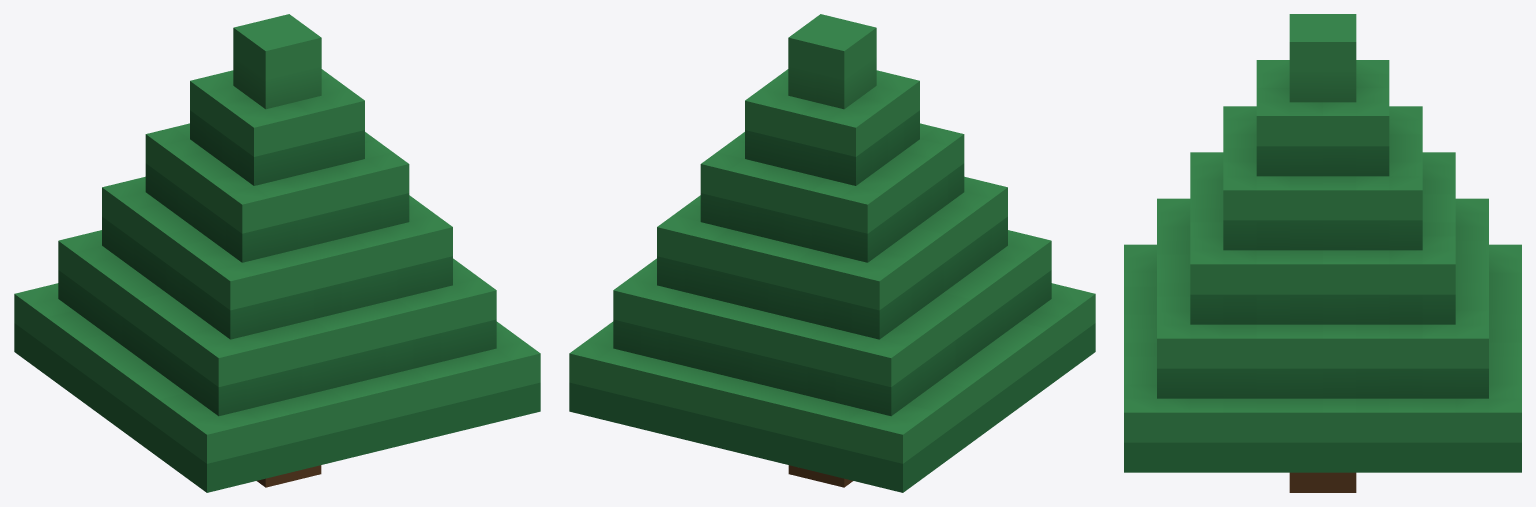
The model's file is pine_tall.glb.
The picture shows the model from 3 angles, left to right: view 1: azimuth 30°, elevation 25°; view 2: azimuth 150°, elevation 25°; view 3: azimuth 270°, elevation 25°; orthographic projection. The views are drawn at different scales.
Parts seen in each view (by area): view 1: pine_tall; view 2: pine_tall; view 3: pine_tall.
Boxes of the visible parts, <box> form: pine_tall: <box>14,14,540,492</box>; pine_tall: <box>569,14,1095,492</box>; pine_tall: <box>1124,14,1521,492</box>.
Bounding box in the file's own units: 4.2 × 5.25 × 4.2.
